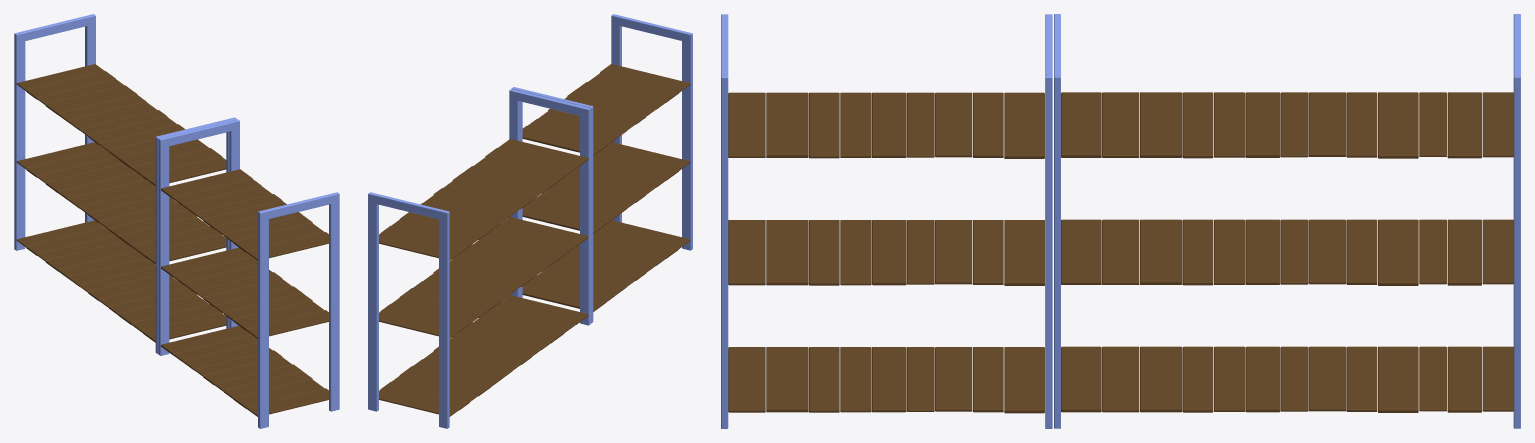
The model's file is shelving.fbx.
3 views of the same model, side by side, from view 1: azimuth 30°, elevation 25°; view 2: azimuth 150°, elevation 25°; view 3: azimuth 270°, elevation 25° (orthographic). The views are drawn at different scales.
Parts seen in each view (by area): view 1: Плоскость.009; view 2: Плоскость.009; view 3: Плоскость.009.
Boxes of the visible parts, left/top/right/bottom form: Плоскость.009: left=14, top=14, right=339, bottom=428; Плоскость.009: left=368, top=14, right=692, bottom=428; Плоскость.009: left=721, top=14, right=1520, bottom=428.
Size of the model in its own units: 145 by 373 by 769.
